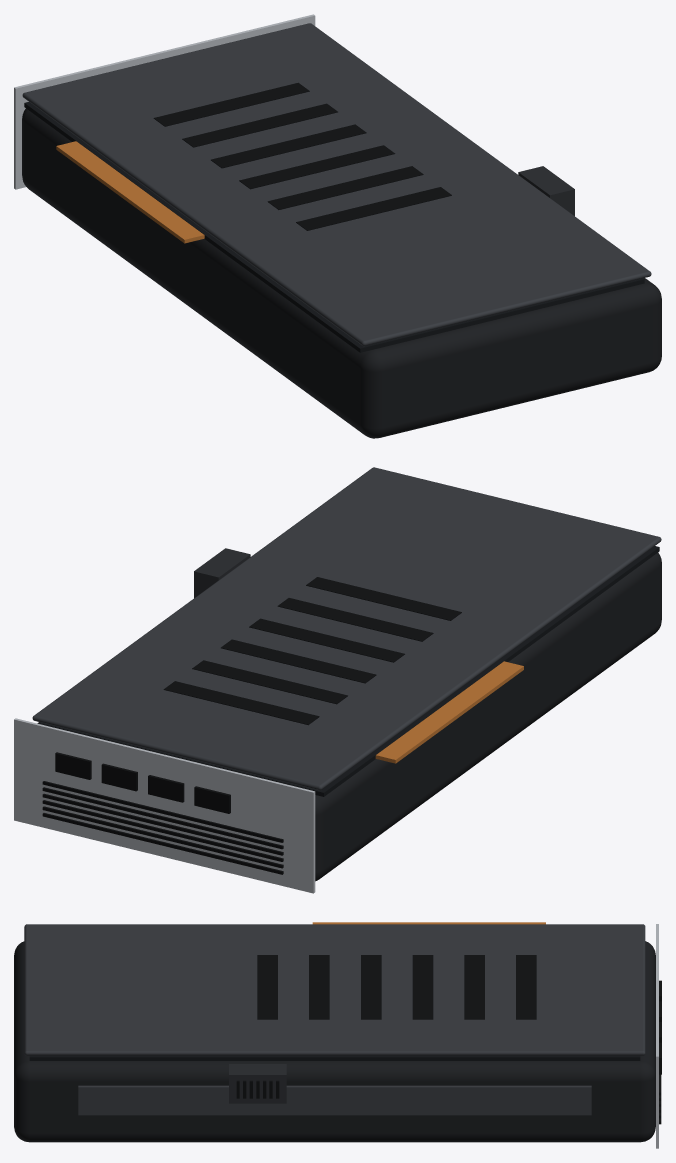
Rendered from gpu-dual-fan-v1.lod1.glb.
The picture shows the model from 3 angles, top to bottom: view 1: azimuth 30°, elevation 25°; view 2: azimuth 150°, elevation 25°; view 3: azimuth 270°, elevation 25°; orthographic projection. The views are drawn at different scales.
Visible parts, largest first — view 1: backplate__mesh, shroud__mesh, pcb__mesh, bracket__mesh, pcie_fingers__mesh, power_connector__mesh; view 2: backplate__mesh, bracket__mesh, shroud__mesh, pcb__mesh, pcie_fingers__mesh, power_connector__mesh; view 3: backplate__mesh, shroud__mesh, pcb__mesh, power_connector__mesh, bracket__mesh, pcie_fingers__mesh.
Boxes of the visible parts, x1=… form: backplate__mesh: x1=22, y1=23, x2=651, y2=346; shroud__mesh: x1=22, y1=108, x2=661, y2=438; pcb__mesh: x1=24, y1=102, x2=644, y2=352; bracket__mesh: x1=14, y1=14, x2=315, y2=189; pcie_fingers__mesh: x1=56, y1=141, x2=204, y2=243; power_connector__mesh: x1=518, y1=166, x2=574, y2=215; backplate__mesh: x1=32, y1=467, x2=661, y2=790; bracket__mesh: x1=14, y1=718, x2=315, y2=893; shroud__mesh: x1=37, y1=552, x2=661, y2=881; pcb__mesh: x1=39, y1=546, x2=659, y2=796; pcie_fingers__mesh: x1=375, y1=661, x2=523, y2=763; power_connector__mesh: x1=194, y1=548, x2=250, y2=597; backplate__mesh: x1=24, y1=924, x2=645, y2=1055; shroud__mesh: x1=14, y1=941, x2=655, y2=1142; pcb__mesh: x1=29, y1=1055, x2=640, y2=1060; power_connector__mesh: x1=229, y1=1064, x2=286, y2=1103; bracket__mesh: x1=656, y1=924, x2=661, y2=1148; pcie_fingers__mesh: x1=312, y1=922, x2=545, y2=924.
Bounding box in the file's own units: 0.1388 × 0.0393 × 0.2473.
